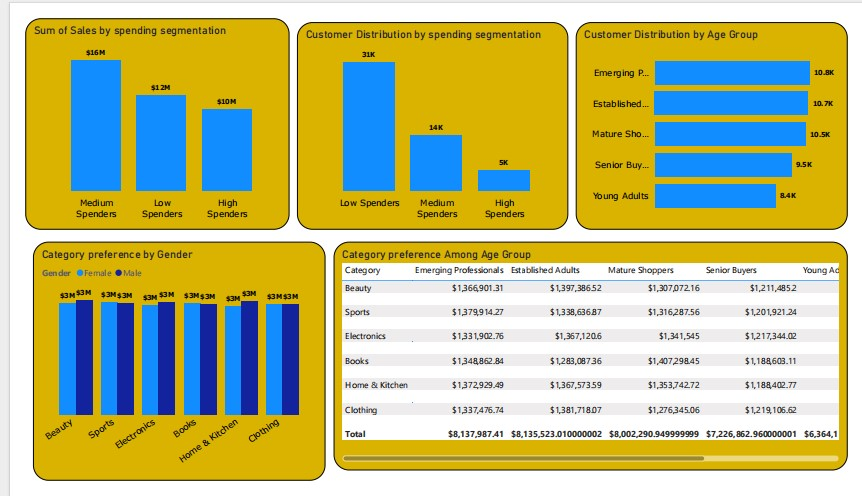

The dashboard page shown, as its layout file describes it:
{"tool":"powerbi","page":{"name":"Customer Demo","canvas":[1280,720],"ordinal":2},"visuals":[{"type":"pivotTable","title":"Category preference Among  Age Group","fields":{"Rows":["retail_sales_dataset.Category"],"Columns":["customer.Age Group"],"Values":["Sum(retail_sales_dataset.Sales)"]},"box":[480.5,348.2,799.3,355.6],"z":0},{"type":"actionButton","box":[0,0,100,40],"z":1000},{"type":"clusteredColumnChart","title":"Customer Distribution by spending segmentation","fields":{"Y":["CountNonNull(customer.CustomerID)"],"Category":["Retail_sales_dataset.Customer spending Segmentation"]},"box":[423.2,5.9,421.7,323.3],"z":2000},{"type":"clusteredColumnChart","title":"Sum of Sales by spending segmentation ","fields":{"Y":["Sum(retail_sales_dataset.Sales)"],"Category":["Retail_sales_dataset.Customer spending Segmentation"]},"box":[0,0,411.4,328.6],"z":3000},{"type":"clusteredColumnChart","title":"Category preference by Gender","fields":{"Category":["retail_sales_dataset.Category"],"Series":["retail_sales_dataset.Gender"],"Y":["Sum(retail_sales_dataset.Sales)"]},"box":[11.8,348.2,455.5,371.8],"z":4000},{"type":"clusteredBarChart","title":"Customer Distribution by Age Group","fields":{"Category":["customer.Age Group"],"Y":["CountNonNull(customer.CustomerID)"]},"box":[857.1,5.7,422.9,322.9],"z":5000}]}

Visuals, with their boxes in screenshot pixels (x1, y1, x2, y2), scaled from the page's 1280x720 canvas onto the 862x496 screenshot:
"Category preference Among  Age Group" pivotTable: Rect(324, 240, 861, 485)
actionButton: Rect(0, 0, 67, 28)
"Customer Distribution by spending segmentation" clusteredColumnChart: Rect(285, 4, 569, 227)
"Sum of Sales by spending segmentation " clusteredColumnChart: Rect(0, 0, 277, 226)
"Category preference by Gender" clusteredColumnChart: Rect(8, 240, 315, 495)
"Customer Distribution by Age Group" clusteredBarChart: Rect(577, 4, 861, 226)
